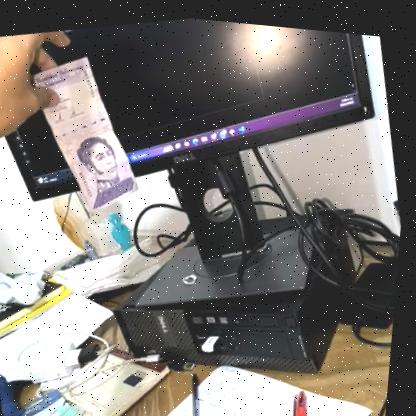ten-front-vef: (20, 41, 154, 224)
